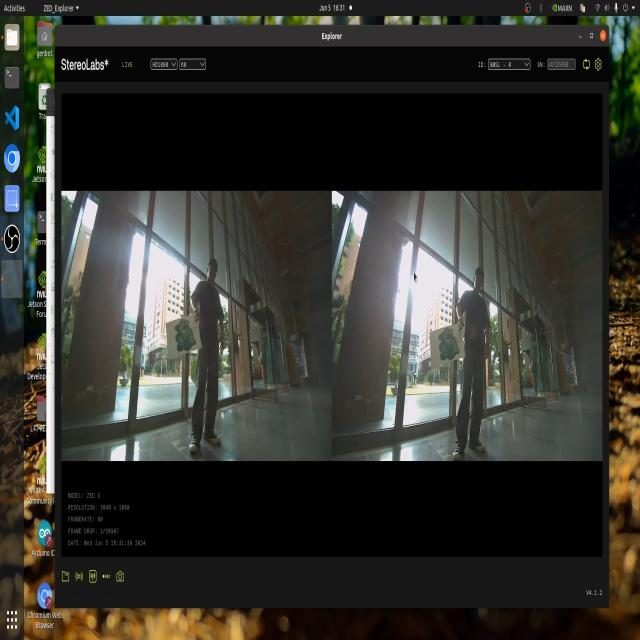green: (173, 313, 204, 366), (437, 340, 471, 369)
